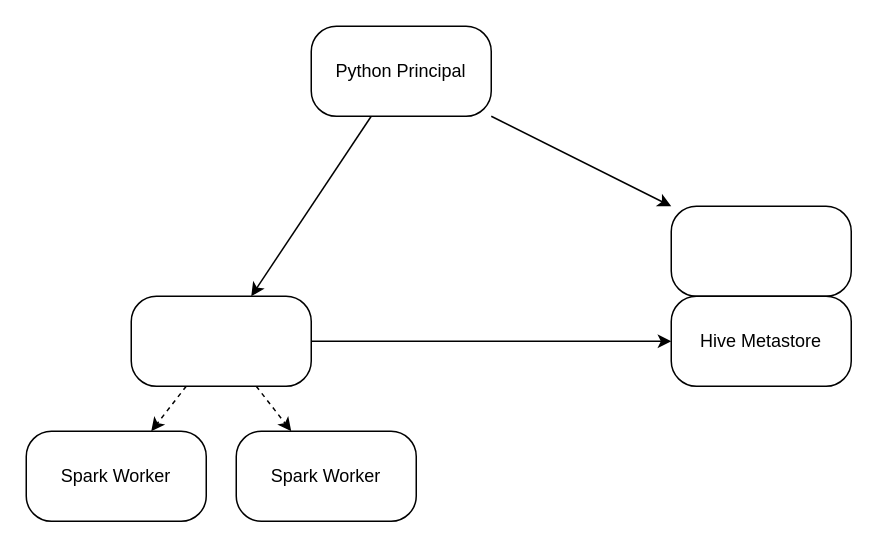
The diagram is 878 pixels wide and 548 high, and some of its shapes have lost their labels. The centre of each missing label's shape, as x and y in pixels:
Postgres: point (760, 250)
Spark Leader: point (220, 340)
